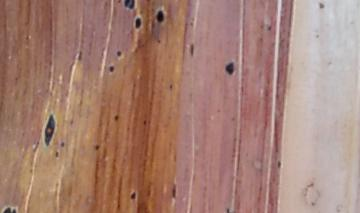tarspot: (45, 115, 55, 145), (225, 60, 235, 75), (133, 15, 142, 30), (188, 43, 196, 58), (124, 1, 135, 10), (156, 10, 164, 22), (171, 183, 177, 197), (2, 206, 11, 213), (108, 64, 115, 73), (130, 191, 137, 200), (277, 159, 282, 169), (113, 113, 120, 120), (116, 50, 123, 57), (93, 144, 101, 150), (54, 150, 59, 159), (60, 140, 65, 148), (142, 119, 147, 125), (169, 82, 173, 89), (226, 206, 230, 213), (268, 25, 272, 32), (157, 39, 162, 44), (11, 209, 17, 213)
